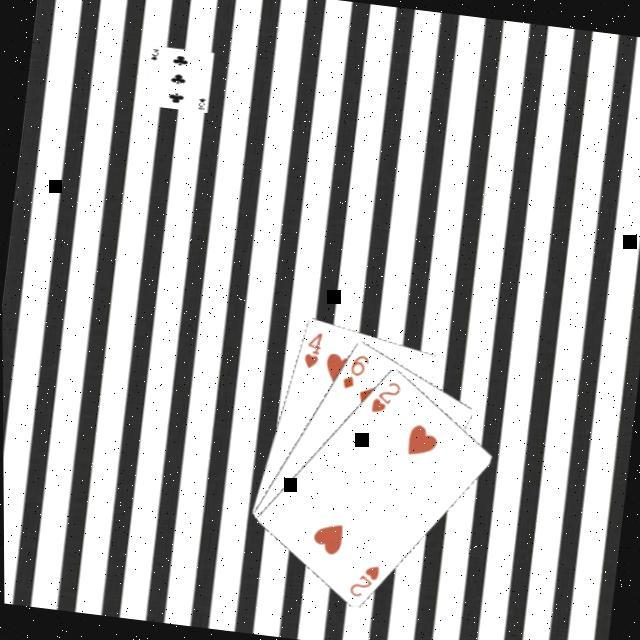2H: (343, 557, 382, 601), (365, 373, 403, 417)
4H: (297, 327, 323, 371)
6D: (336, 347, 371, 392)
